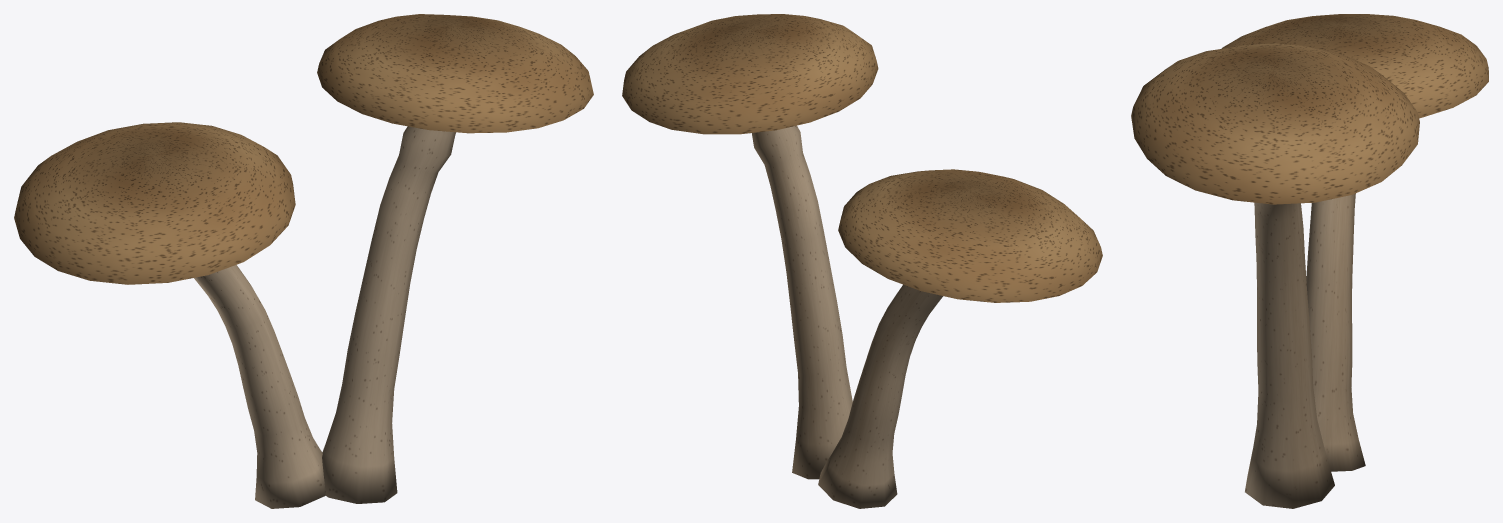
File: mm6_deco_mushrm05.glb
3 views of the same model, side by side, from view 1: azimuth 30°, elevation 25°; view 2: azimuth 150°, elevation 25°; view 3: azimuth 270°, elevation 25° (orthographic). The views are drawn at different scales.
Visible parts, largest first — view 1: Mushrm05; view 2: Mushrm05; view 3: Mushrm05.
Part boxes in pixels (x1,y1,x2,y2): Mushrm05: [14, 14, 593, 508]; Mushrm05: [622, 14, 1102, 508]; Mushrm05: [1131, 14, 1488, 508].
Size of the model in its own units: 1.3 by 1.1 by 0.7525.
Materials: 3 (3 with a texture image).
